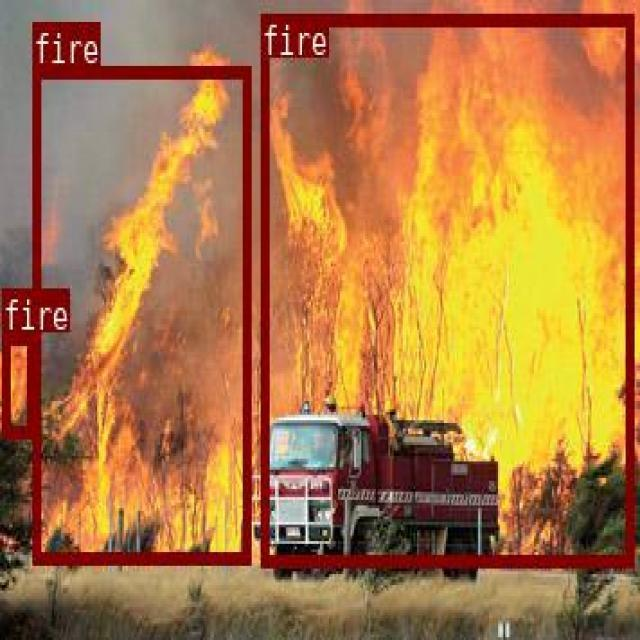fire: (259, 12, 632, 565), (32, 64, 249, 560), (1, 330, 34, 436)
